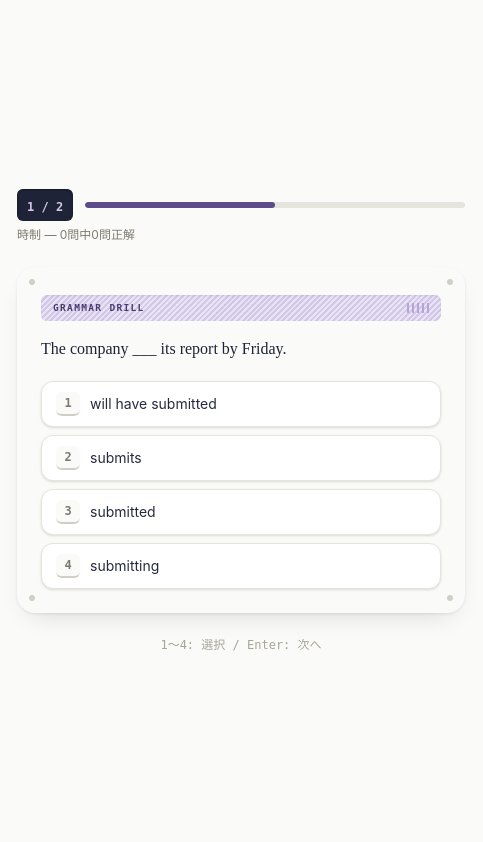
Test: GrammarDrill › changes the keyboard-shortcut hint while asking the tutor a question (26章)
Click the button "1 will have submitted": [153, 404] box [41,381,441,427]
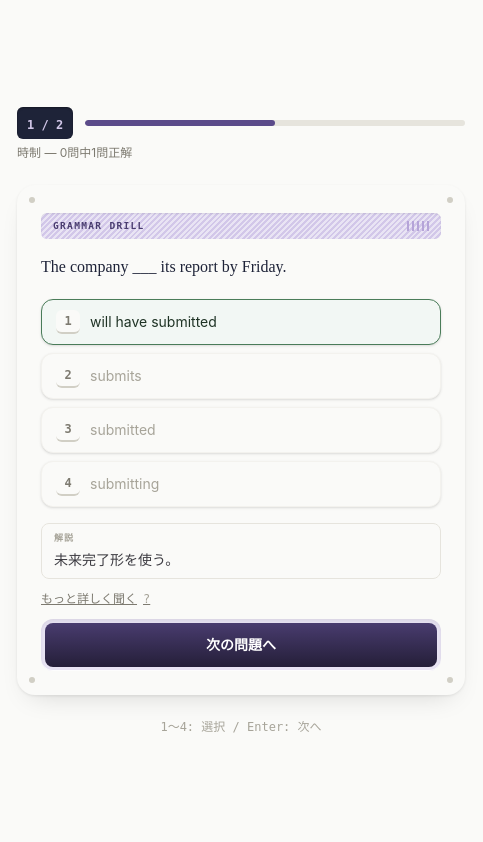
Check: the text "1〜4: 選択 / Enter: 次へ" is shown, box [160,719,322,735]
Click the button "もっと詳しく聞く ?": [96, 599] box [41,591,150,607]
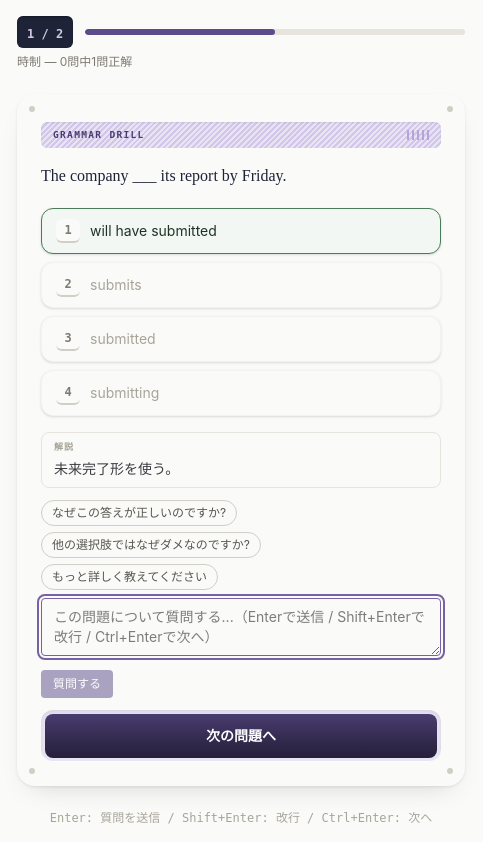
Focus the text box with placeholder "この問題について質問する...（Enterで送信 / Shift+Enterで改行 / Ctrl+Enterで次へ）": [241, 627] box [41,598,441,656]
Check: the text "1〜4: 選択 / Enter: 次へ" is not shown
Check: the text "Enter: 質問を送信 / Shift+Enter: 改行 / Ctrl+Enter: 次へ" is shown, box [50,810,432,826]
Leave the text box with placeholder "この問題について質問する...（Enterで送信 / Shift+Enterで改行 / Ctrl+Enterで次へ）", box [41,598,441,656]
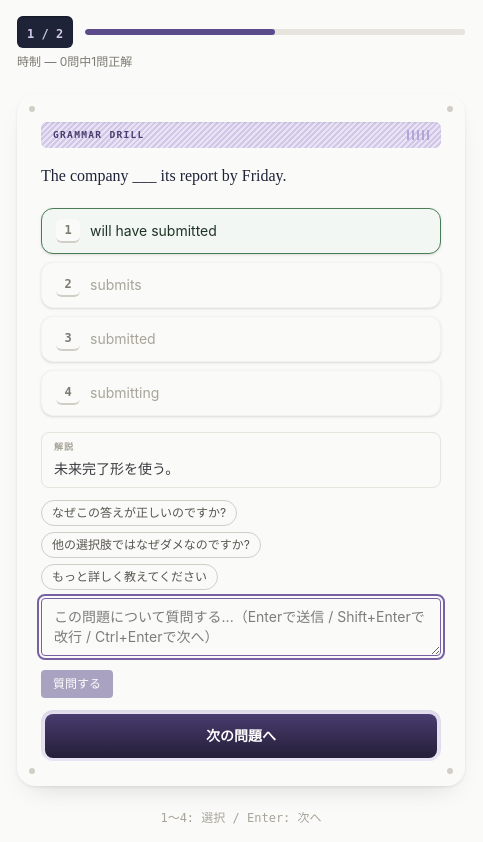
Check: the text "1〜4: 選択 / Enter: 次へ" is shown, box [160,810,322,826]
